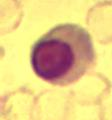lymphocyte: (30, 20, 98, 87)
